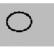no answer: (4, 10, 34, 35)
